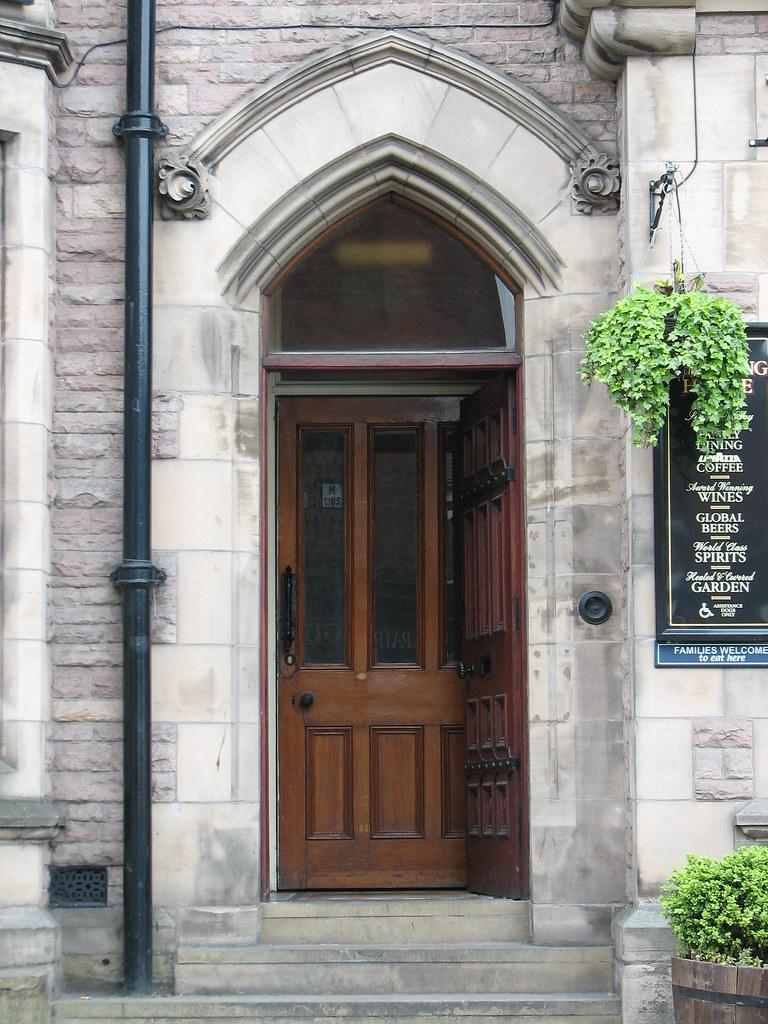door: (275, 389, 471, 892)
